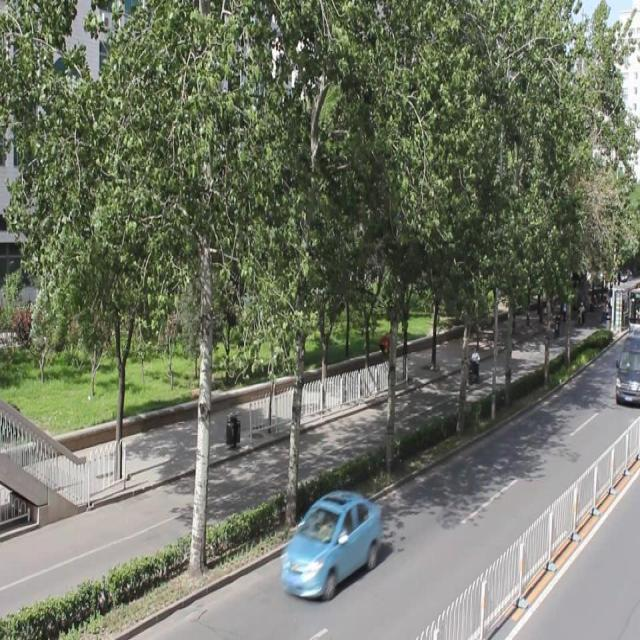car: (279, 489, 380, 600)
